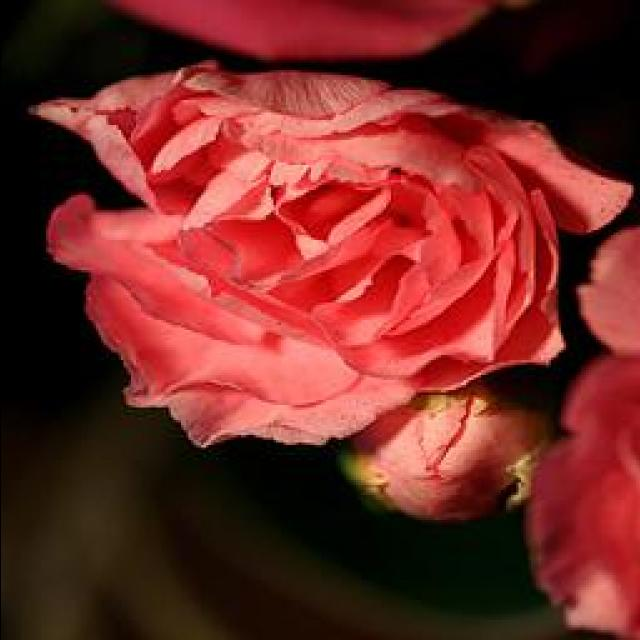carnation: (19, 54, 612, 458)
